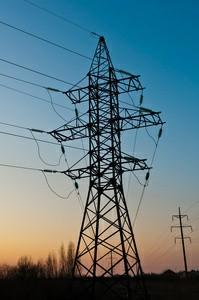power_tower: (42, 31, 164, 273)
